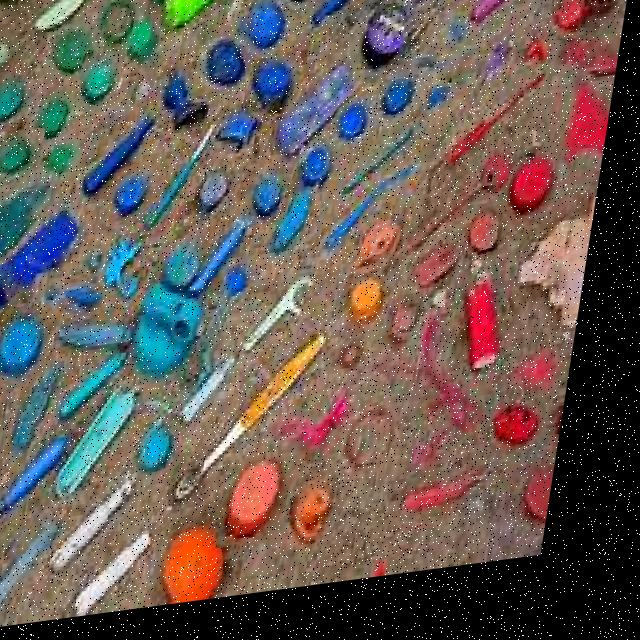plasticbottlecap: (166, 517, 260, 614), (342, 264, 413, 358), (510, 155, 584, 244), (235, 468, 308, 557), (495, 396, 570, 478), (0, 305, 63, 391), (196, 23, 261, 103), (521, 475, 573, 573), (370, 68, 439, 140), (136, 418, 202, 490), (246, 58, 311, 129), (240, 0, 302, 67), (552, 0, 623, 58), (164, 232, 221, 301), (114, 164, 172, 231), (46, 19, 105, 83), (248, 167, 301, 235), (0, 129, 50, 200), (30, 86, 84, 150), (79, 49, 129, 115), (301, 143, 351, 205), (333, 106, 384, 166), (473, 217, 518, 276), (0, 69, 38, 132), (0, 265, 32, 336), (0, 383, 21, 460), (282, 0, 329, 21)
